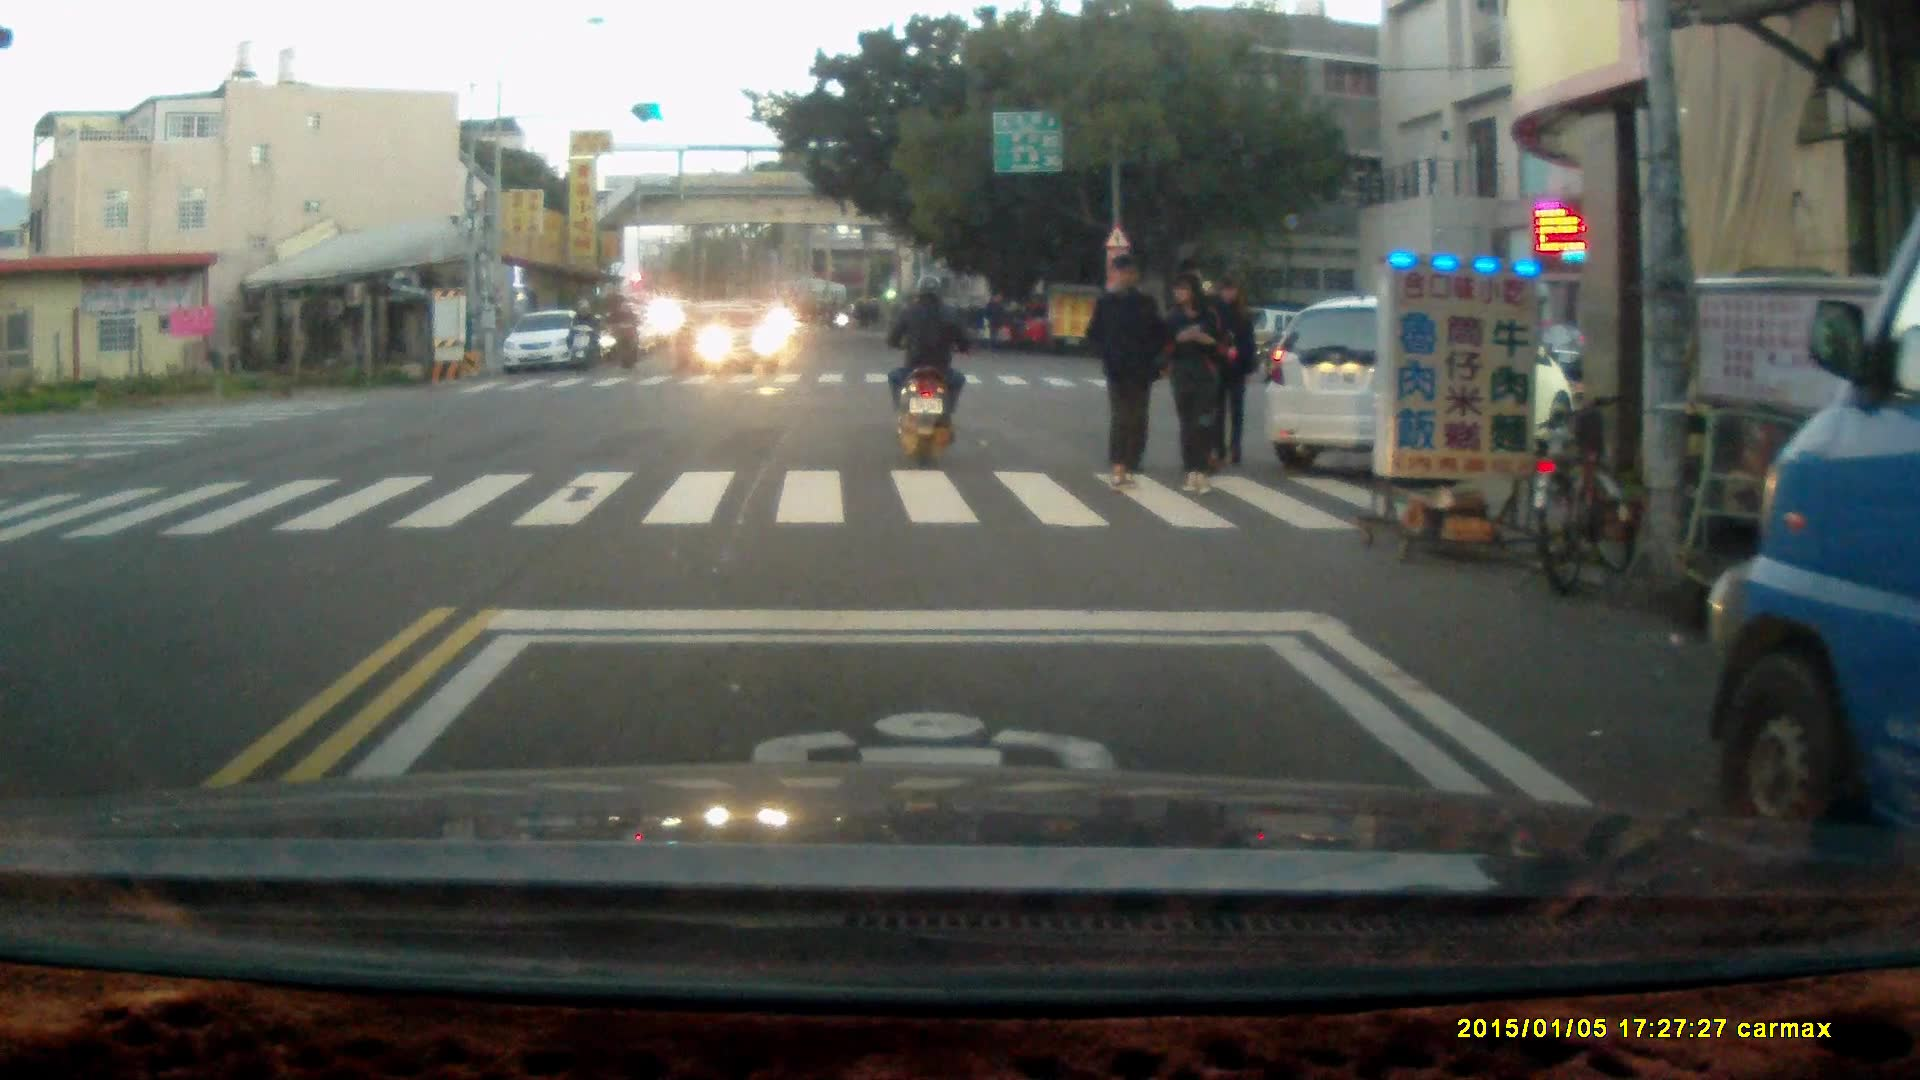pedestrian: (1083, 248, 1166, 489), (1161, 269, 1230, 497), (1208, 280, 1256, 461), (982, 287, 1007, 361), (1003, 295, 1028, 363)
rider: (888, 270, 964, 469), (611, 297, 642, 370), (567, 296, 598, 372)
vehicle: (1694, 190, 1920, 852), (1268, 303, 1578, 473), (671, 296, 788, 375), (508, 309, 601, 373)
